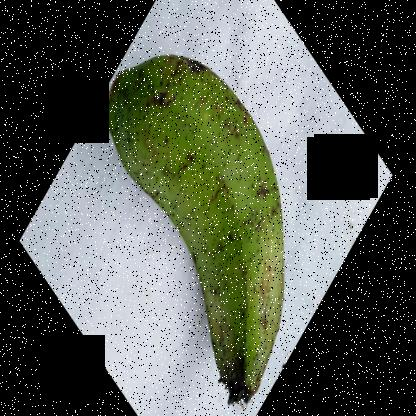rotten: (212, 360, 257, 412), (179, 45, 212, 75)
unripe: (93, 42, 298, 415)
